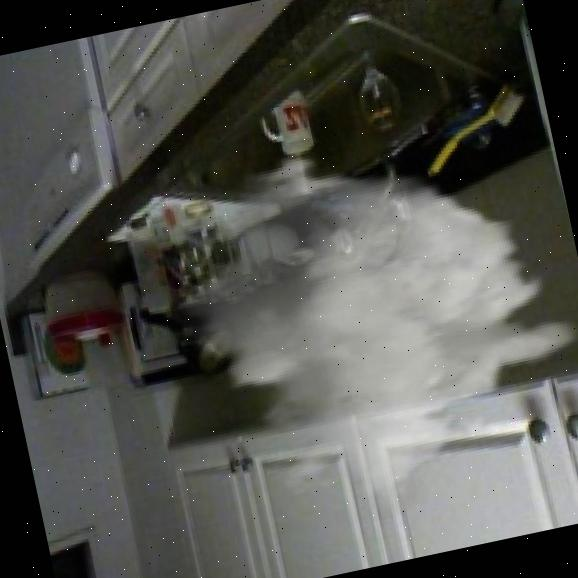smoke: (141, 101, 578, 553)
